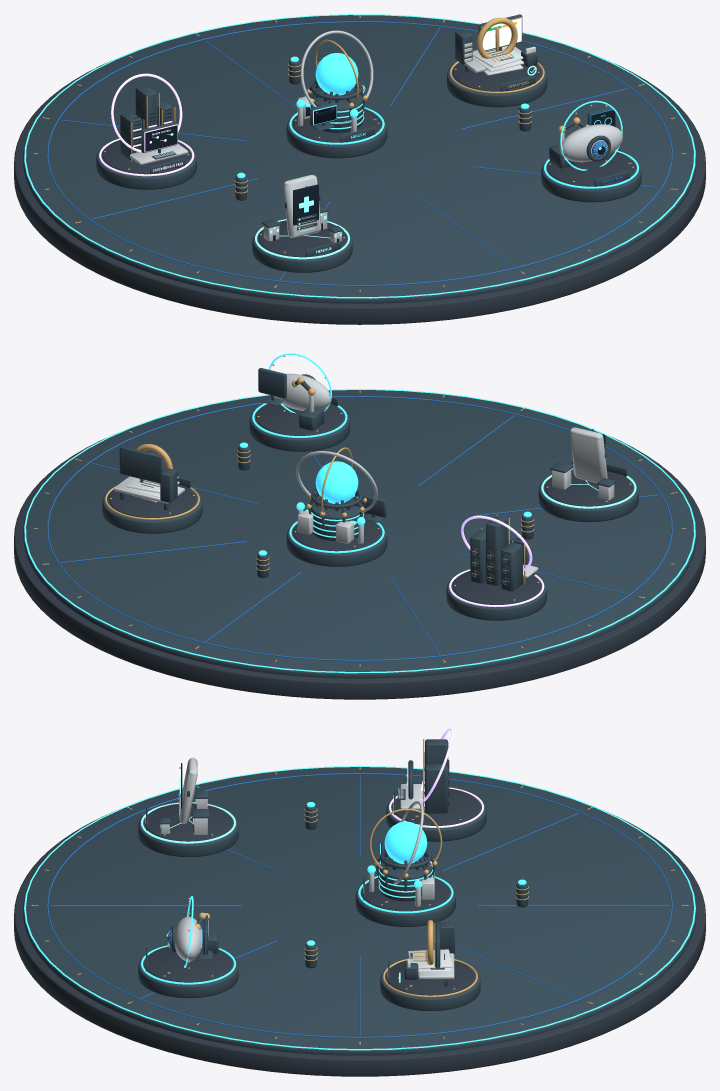
Rendered from atelier.glb.
3 renders of one model, top to bottom at view 1: azimuth 30°, elevation 25°; view 2: azimuth 150°, elevation 25°; view 3: azimuth 270°, elevation 25°, orthographic.
Parts seen in each view (by area): view 1: Atelier_Midnight titanium, Foundation, Station_hub_Midnight titanium, Atelier_Cobalt, Station_nexus_Midnight titanium, Cyan perimeter, Station_invoice_Midnight titanium, Station_eyes_Midnight titanium, Station_healhub_Midnight titanium, Station_nexus_Ion cyan, eyes_top, Station_healhub_Porcelain (+17 smaller); view 2: Atelier_Midnight titanium, Foundation, Station_hub_Midnight titanium, Atelier_Cobalt, Station_nexus_Midnight titanium, Station_invoice_Midnight titanium, Station_eyes_Midnight titanium, Cyan perimeter, Station_healhub_Porcelain, Station_nexus_Ion cyan, Station_healhub_Midnight titanium, hub_top (+7 smaller); view 3: Atelier_Midnight titanium, Foundation, Atelier_Cobalt, Station_nexus_Midnight titanium, Station_hub_Midnight titanium, Cyan perimeter, Station_invoice_Midnight titanium, Station_eyes_Midnight titanium, Station_nexus_Ion cyan, eyes_top, Station_healhub_Midnight titanium, healhub_top (+9 smaller).
Boxes of the visible parts, x1=… form: Atelier_Midnight titanium: x1=23, y1=15, x2=696, y2=303; Foundation: x1=14, y1=59, x2=705, y2=324; Station_hub_Midnight titanium: x1=96, y1=85, x2=196, y2=189; Atelier_Cobalt: x1=47, y1=21, x2=672, y2=286; Station_nexus_Midnight titanium: x1=286, y1=80, x2=387, y2=158; Cyan perimeter: x1=24, y1=14, x2=695, y2=298; Station_invoice_Midnight titanium: x1=447, y1=14, x2=547, y2=107; Station_eyes_Midnight titanium: x1=541, y1=106, x2=641, y2=202; Station_healhub_Midnight titanium: x1=252, y1=194, x2=352, y2=272; Station_nexus_Ion cyan: x1=289, y1=53, x2=384, y2=144; eyes_top: x1=547, y1=151, x2=635, y2=186; Station_healhub_Porcelain: x1=263, y1=175, x2=341, y2=242; Atelier_Midnight titanium: x1=23, y1=390, x2=696, y2=678; Foundation: x1=14, y1=433, x2=705, y2=699; Station_hub_Midnight titanium: x1=446, y1=516, x2=546, y2=620; Atelier_Cobalt: x1=47, y1=396, x2=672, y2=661; Station_nexus_Midnight titanium: x1=286, y1=488, x2=387, y2=566; Station_invoice_Midnight titanium: x1=102, y1=446, x2=202, y2=533; Station_eyes_Midnight titanium: x1=249, y1=368, x2=349, y2=451; Cyan perimeter: x1=24, y1=389, x2=695, y2=673; Station_healhub_Porcelain: x1=552, y1=427, x2=614, y2=500; Station_nexus_Ion cyan: x1=289, y1=461, x2=384, y2=553; Station_healhub_Midnight titanium: x1=538, y1=447, x2=638, y2=522; hub_top: x1=452, y1=571, x2=540, y2=604; Atelier_Midnight titanium: x1=23, y1=767, x2=696, y2=1055; Foundation: x1=14, y1=811, x2=705, y2=1076; Atelier_Cobalt: x1=47, y1=773, x2=672, y2=1038; Station_nexus_Midnight titanium: x1=355, y1=841, x2=455, y2=926; Station_hub_Midnight titanium: x1=386, y1=739, x2=486, y2=841; Cyan perimeter: x1=24, y1=766, x2=695, y2=1050; Station_invoice_Midnight titanium: x1=380, y1=921, x2=480, y2=1010; Station_eyes_Midnight titanium: x1=138, y1=914, x2=238, y2=998; Station_nexus_Ion cyan: x1=358, y1=821, x2=453, y2=913; eyes_top: x1=144, y1=946, x2=232, y2=982; Station_healhub_Midnight titanium: x1=138, y1=791, x2=238, y2=857; healhub_top: x1=144, y1=803, x2=232, y2=841.
Size of the model in its own units: 11.3 by 2.25 by 11.3.
12 materials, 2 textured.
